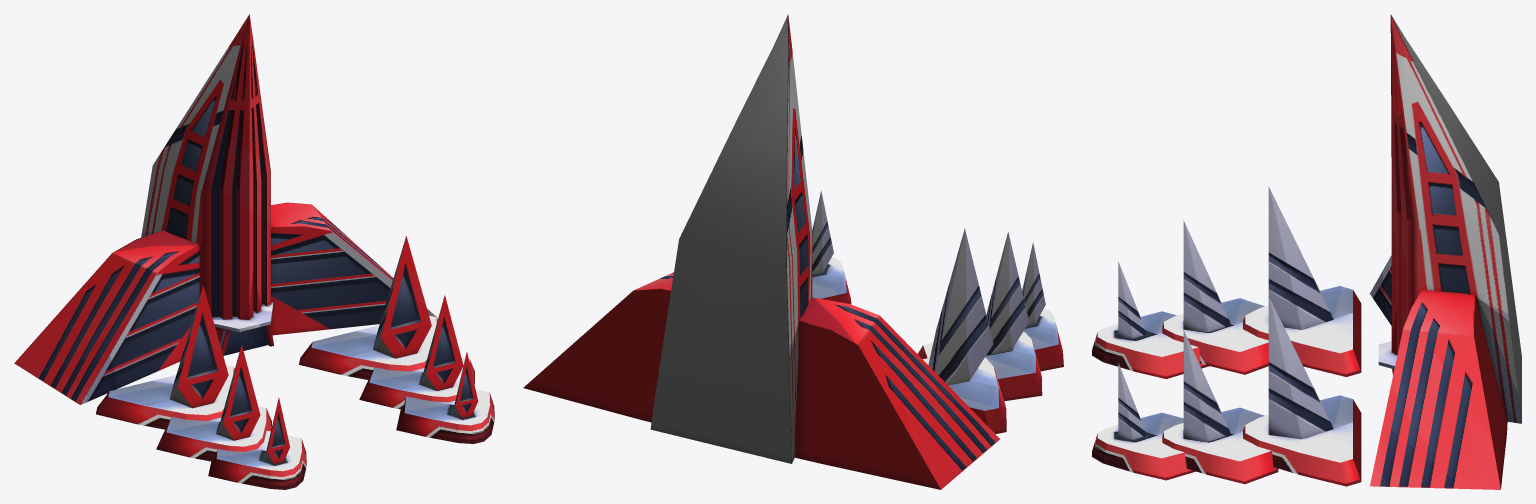
File: RedClan_T3.fbx
The picture shows the model from 3 angles, left to right: view 1: azimuth 30°, elevation 25°; view 2: azimuth 150°, elevation 25°; view 3: azimuth 270°, elevation 25°; orthographic projection. The views are drawn at different scales.
Visible parts, largest first — view 1: T3_Main, T3_Right_Deco, T3_Left_Deco; view 2: T3_Main, T3_Right_Deco, T3_Left_Deco; view 3: T3_Main, T3_Left_Deco, T3_Right_Deco.
Boxes of the visible parts, x1=… form: T3_Main: x1=14, y1=14, x2=437, y2=404; T3_Right_Deco: x1=96, y1=285, x2=306, y2=489; T3_Left_Deco: x1=299, y1=236, x2=494, y2=443; T3_Main: x1=523, y1=14, x2=999, y2=489; T3_Right_Deco: x1=918, y1=228, x2=1063, y2=434; T3_Left_Deco: x1=812, y1=191, x2=851, y2=304; T3_Main: x1=1370, y1=14, x2=1521, y2=489; T3_Left_Deco: x1=1092, y1=296, x2=1361, y2=486; T3_Right_Deco: x1=1092, y1=187, x2=1361, y2=378.
Size of the model in its own units: 98.62 by 89.62 by 89.65.
